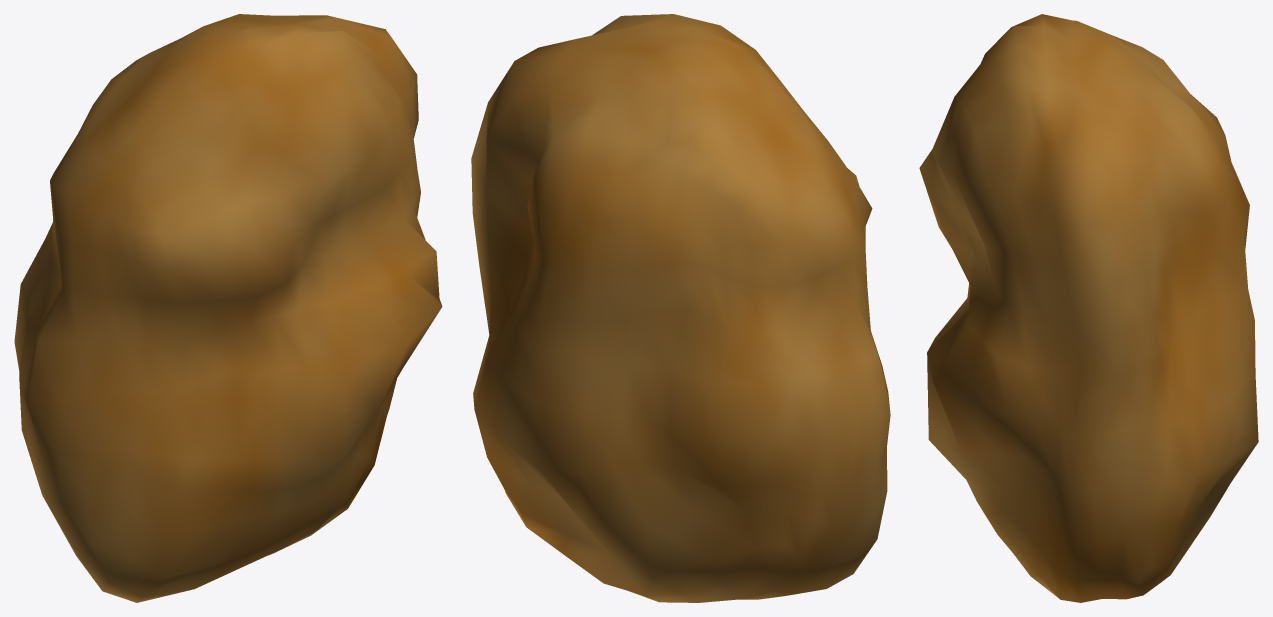
Rendered from Nugget 1.fbx.
3 views of the same model, side by side, from view 1: azimuth 30°, elevation 25°; view 2: azimuth 150°, elevation 25°; view 3: azimuth 270°, elevation 25° (orthographic). The views are drawn at different scales.
Parts seen in each view (by area): view 1: nugget; view 2: nugget; view 3: nugget.
Part boxes in pixels (x1=…): nugget: x1=14, y1=14, x2=442, y2=602; nugget: x1=471, y1=14, x2=890, y2=602; nugget: x1=919, y1=14, x2=1258, y2=602.
Bounding box in the file's own units: 188 × 239 × 133.
